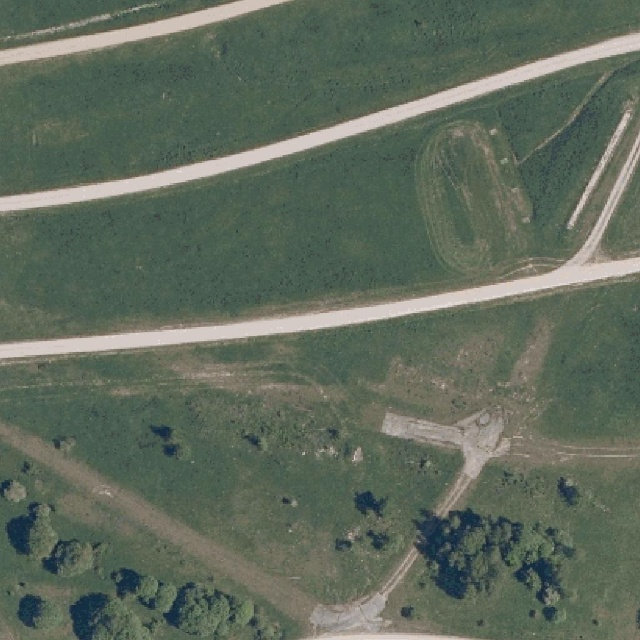vegetation: (1, 478, 279, 640), (428, 512, 579, 622)
